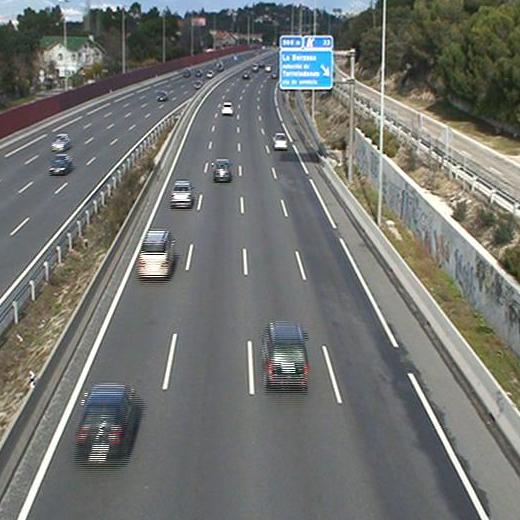car: (66, 381, 149, 473), (254, 317, 316, 397), (134, 227, 180, 284), (167, 178, 197, 213), (210, 155, 235, 186), (269, 132, 292, 152), (219, 100, 235, 119)
